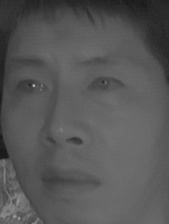eye: (85, 72, 126, 99), (13, 74, 50, 100)
mouth: (35, 159, 103, 200)
